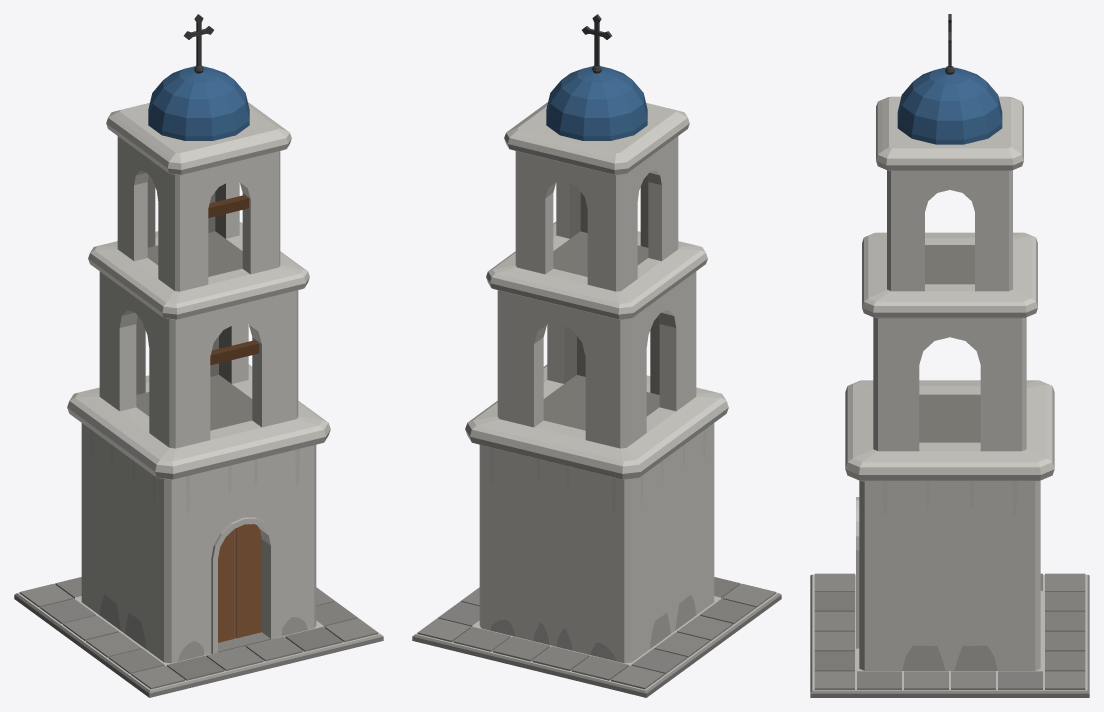
Rendered from tiered-bell-tower-e1b706.glb.
3 renders of one model, left to right at view 1: azimuth 30°, elevation 25°; view 2: azimuth 150°, elevation 25°; view 3: azimuth 270°, elevation 25°, orthographic. The views are drawn at different scales.
Parts seen in each view (by area): view 1: tower; view 2: tower; view 3: tower.
Boxes of the visible parts, x1,y1,x2,y2 form: tower: (14,14,383,697); tower: (412,14,781,697); tower: (810,14,1089,697).
Size of the model in its own units: 4 by 9.88 by 4.
